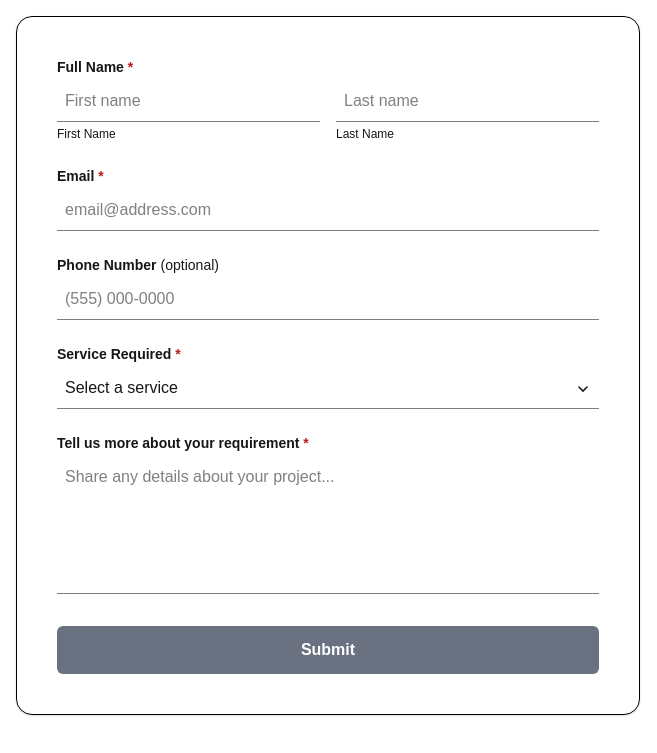
Test: ContactForm › shows invalid email error when a malformed email is entered
Type "not-an-email" into the field with placeholder "email@address.com". click: {"x": 328, "y": 210}
box: [57,190,599,231]
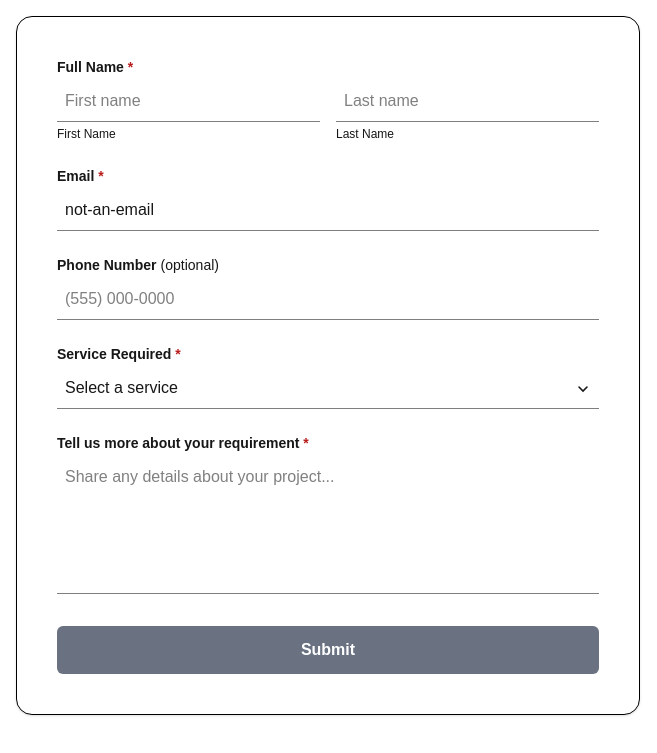
Leave the field with placeholder "email@address.com", box [57,190,599,231]
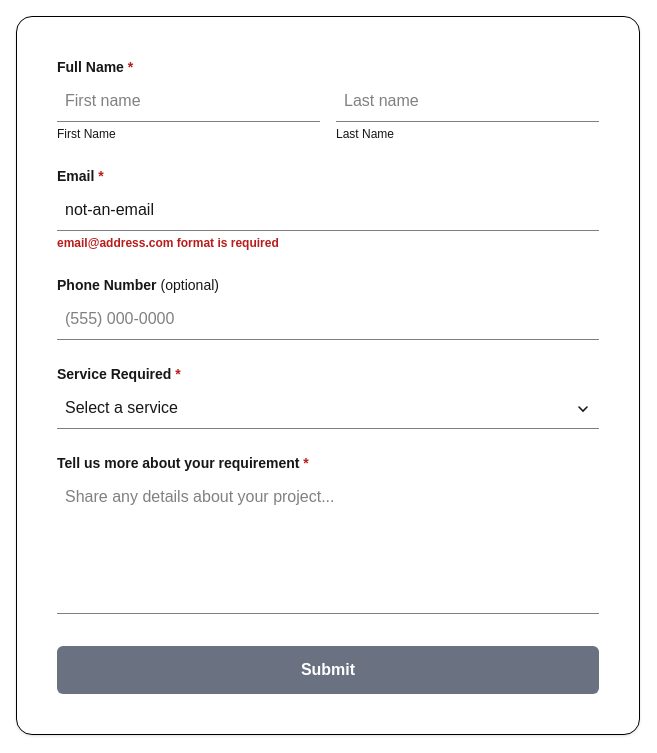
Expected: the text "email@address.com format is required" is shown, [57,236,279,250]
